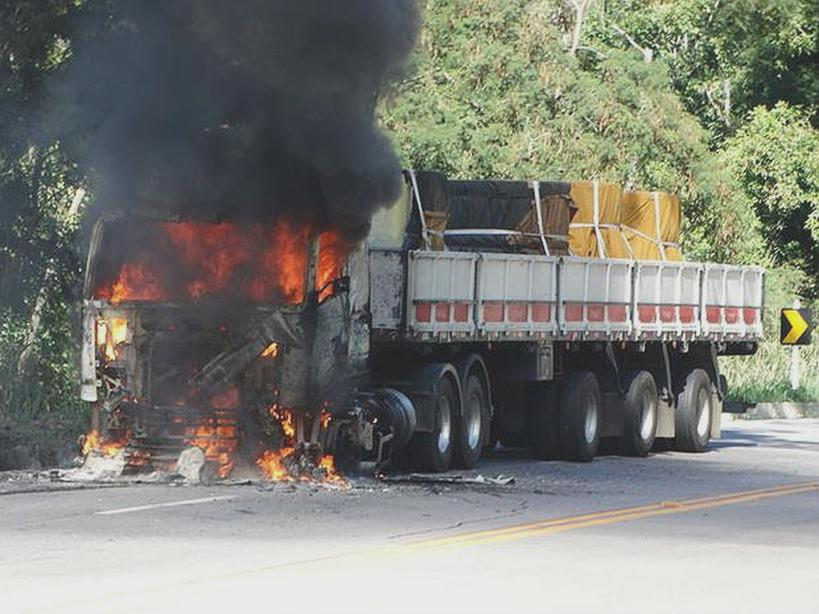fire: (179, 413, 329, 480), (267, 226, 343, 288)
smoke: (95, 0, 394, 189)
